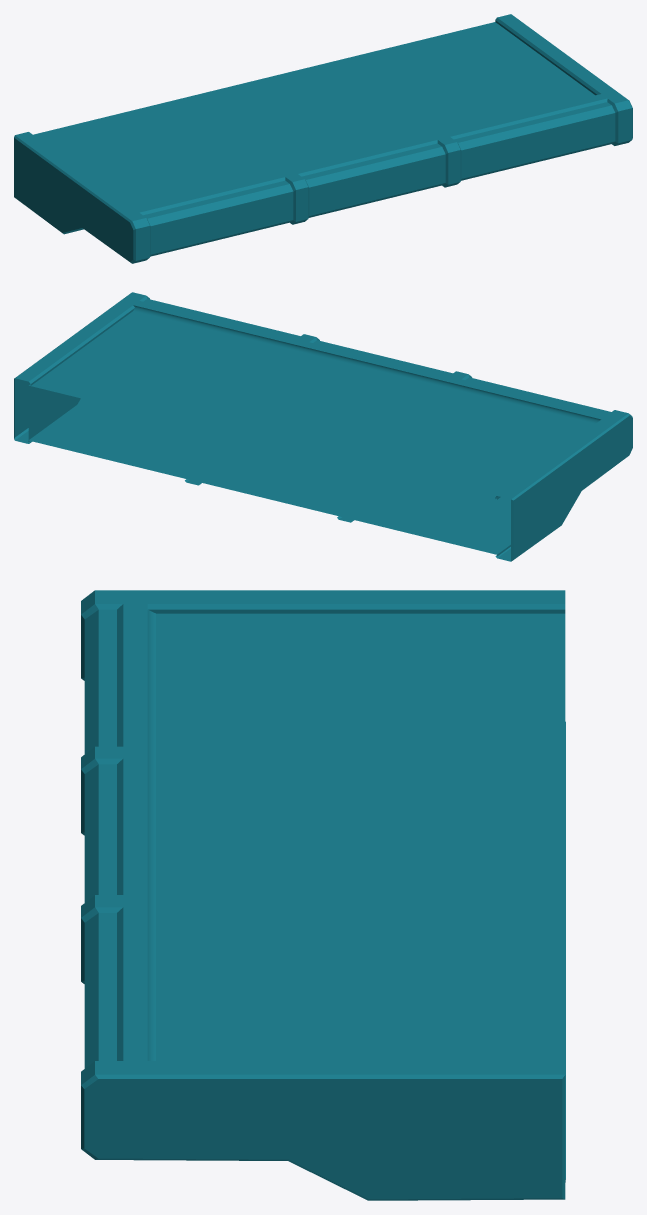
File: Mesh_BackgroundProp_Plattform.FBX
3 views of the same model, one above another, from view 1: azimuth 30°, elevation 25°; view 2: azimuth 150°, elevation 25°; view 3: azimuth 270°, elevation 25° (orthographic). The views are drawn at different scales.
Parts seen in each view (by area): view 1: Mesh_BackgroundProp_Plattform; view 2: Mesh_BackgroundProp_Plattform; view 3: Mesh_BackgroundProp_Plattform.
Boxes of the visible parts, x1,y1,x2,y2 form: Mesh_BackgroundProp_Plattform: (14,14,632,263); Mesh_BackgroundProp_Plattform: (14,292,632,561); Mesh_BackgroundProp_Plattform: (81,590,565,1200).
Bounding box in the file's own units: 6878 × 2891 × 830.
